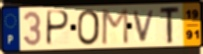3: (22, 10, 43, 48)
M: (100, 7, 130, 46)
O: (76, 8, 102, 47)
P: (45, 9, 71, 47)
T: (159, 5, 182, 45)
V: (132, 8, 158, 43)
